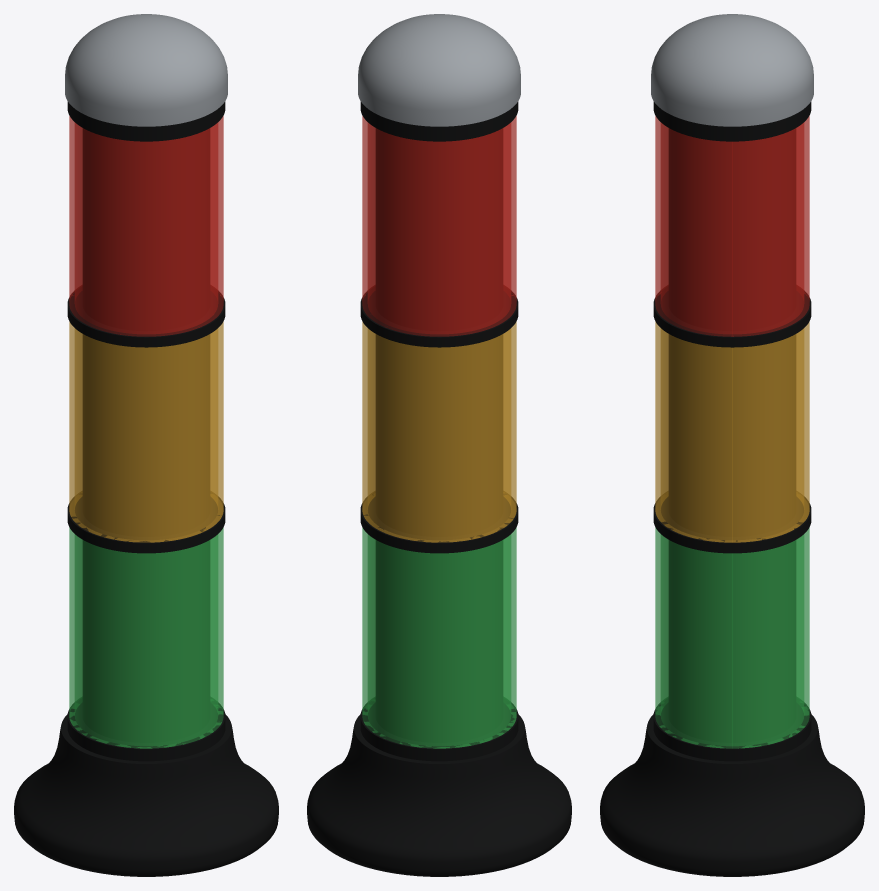
Rendered from signal-tower-light.glb.
3 renders of one model, left to right at view 1: azimuth 30°, elevation 25°; view 2: azimuth 150°, elevation 25°; view 3: azimuth 270°, elevation 25°, orthographic.
Parts seen in each view (by area): view 1: lamp_column, lens_shell, lens_shell.001, lens_shell.002, base_shell, cap_shell; view 2: lamp_column, lens_shell, lens_shell.001, lens_shell.002, base_shell, cap_shell; view 3: lamp_column, lens_shell, lens_shell.001, lens_shell.002, base_shell, cap_shell.
Boxes of the visible parts, x1=… form: lamp_column: x1=67, y1=101, x2=225, y2=761; lens_shell: x1=69, y1=321, x2=223, y2=542; lens_shell.001: x1=69, y1=527, x2=223, y2=748; lens_shell.002: x1=69, y1=116, x2=223, y2=336; base_shell: x1=14, y1=714, x2=278, y2=876; cap_shell: x1=65, y1=14, x2=227, y2=126; lamp_column: x1=360, y1=101, x2=518, y2=761; lens_shell: x1=362, y1=321, x2=516, y2=542; lens_shell.001: x1=362, y1=527, x2=516, y2=748; lens_shell.002: x1=362, y1=116, x2=516, y2=336; base_shell: x1=307, y1=714, x2=571, y2=876; cap_shell: x1=358, y1=14, x2=520, y2=126; lamp_column: x1=653, y1=101, x2=811, y2=761; lens_shell: x1=655, y1=321, x2=809, y2=542; lens_shell.001: x1=655, y1=527, x2=809, y2=748; lens_shell.002: x1=655, y1=116, x2=809, y2=336; base_shell: x1=600, y1=714, x2=864, y2=876; cap_shell: x1=651, y1=14, x2=813, y2=126.
Bounding box in the file's own units: 0.12 × 0.4 × 0.12.
